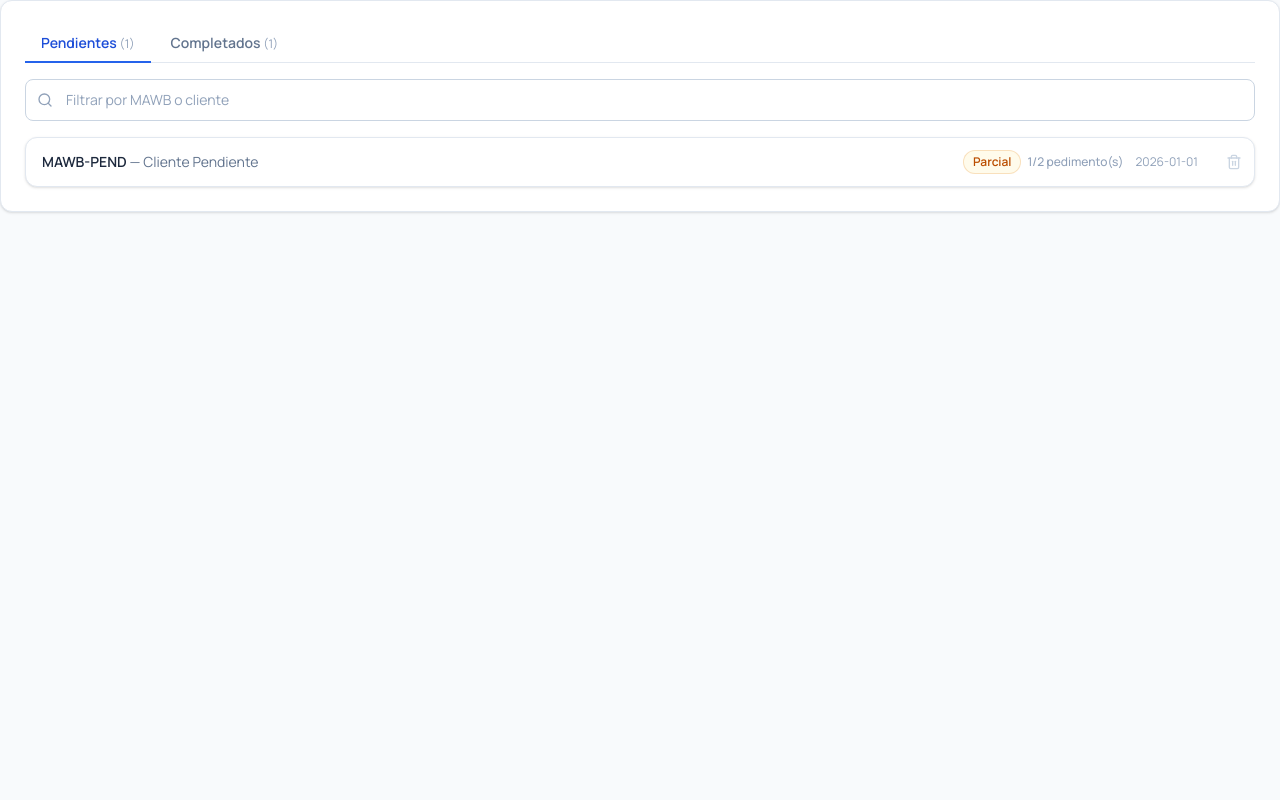
Test case: SeguimientoView › an empty manifest opens the workspace on its Subir (multi-upload) step
Click the text "MAWB-PEND".
click(84, 162)  # box [42, 152, 127, 171]
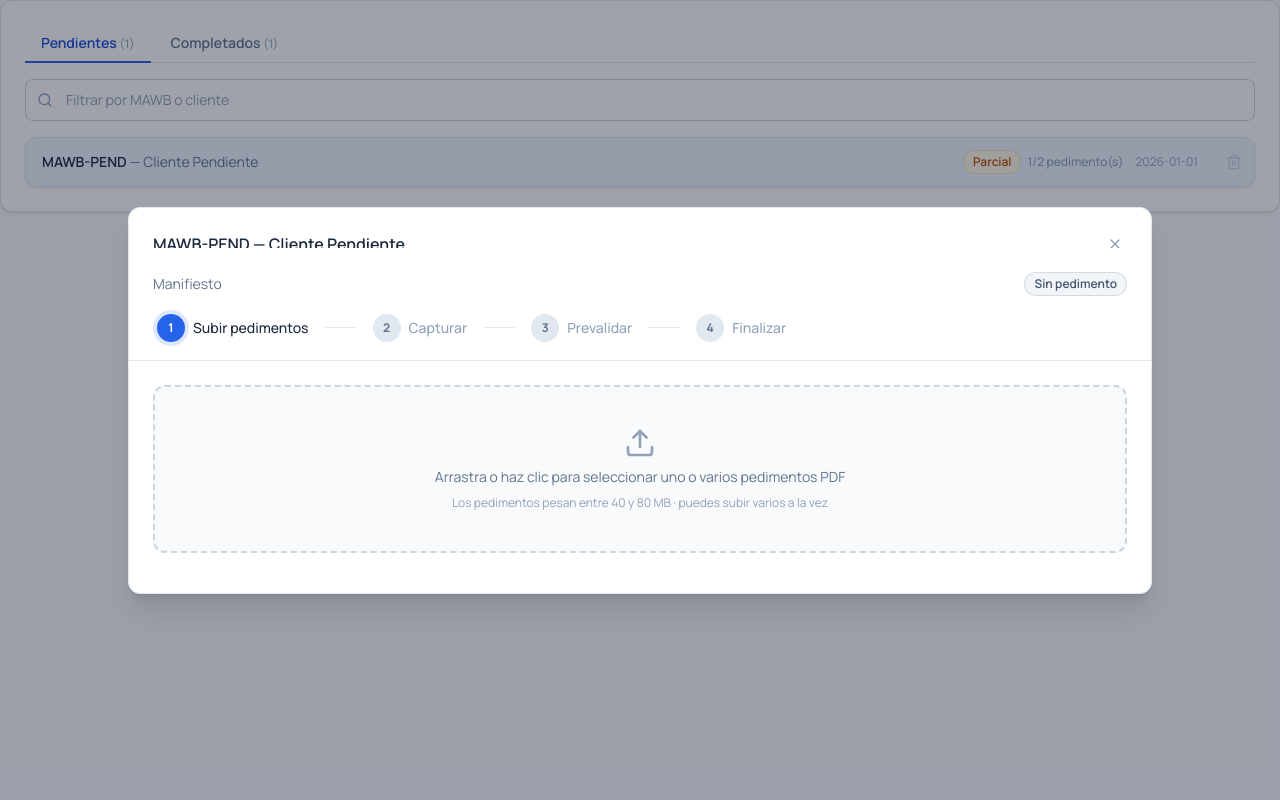
Check: the dialog is shown, box [128, 206, 1152, 594]
Check: the button with aria-label "Zona de carga de pedimentos PDF" is shown, box [153, 384, 1127, 552]
